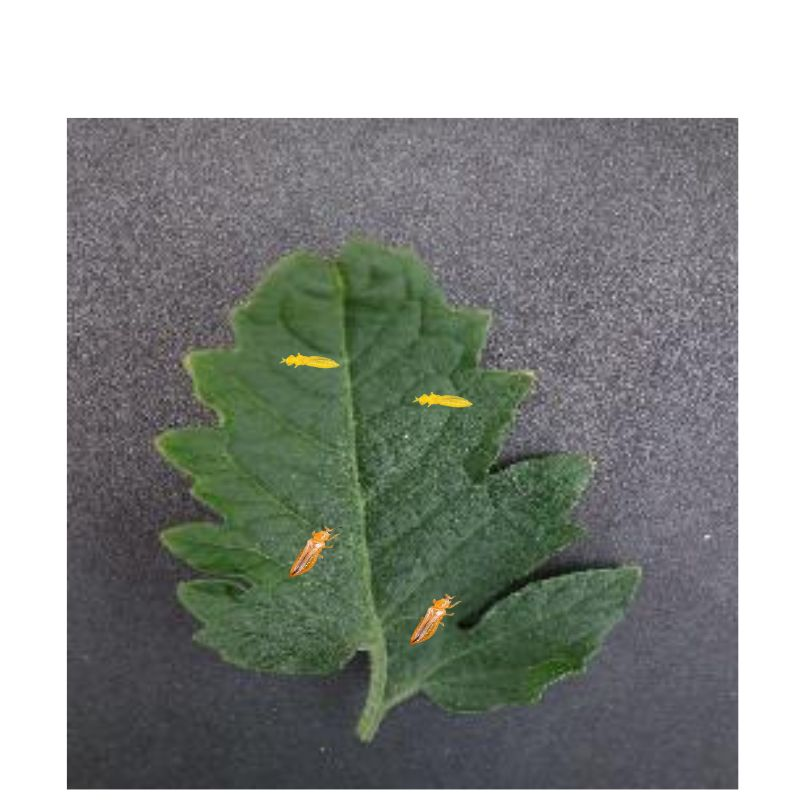thrips: (404, 590, 460, 646), (288, 522, 335, 577), (279, 352, 341, 372), (412, 392, 472, 409)
